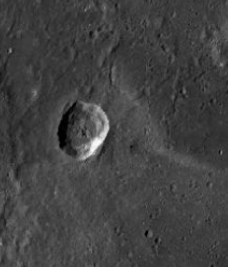crater: (29, 69, 125, 199)
